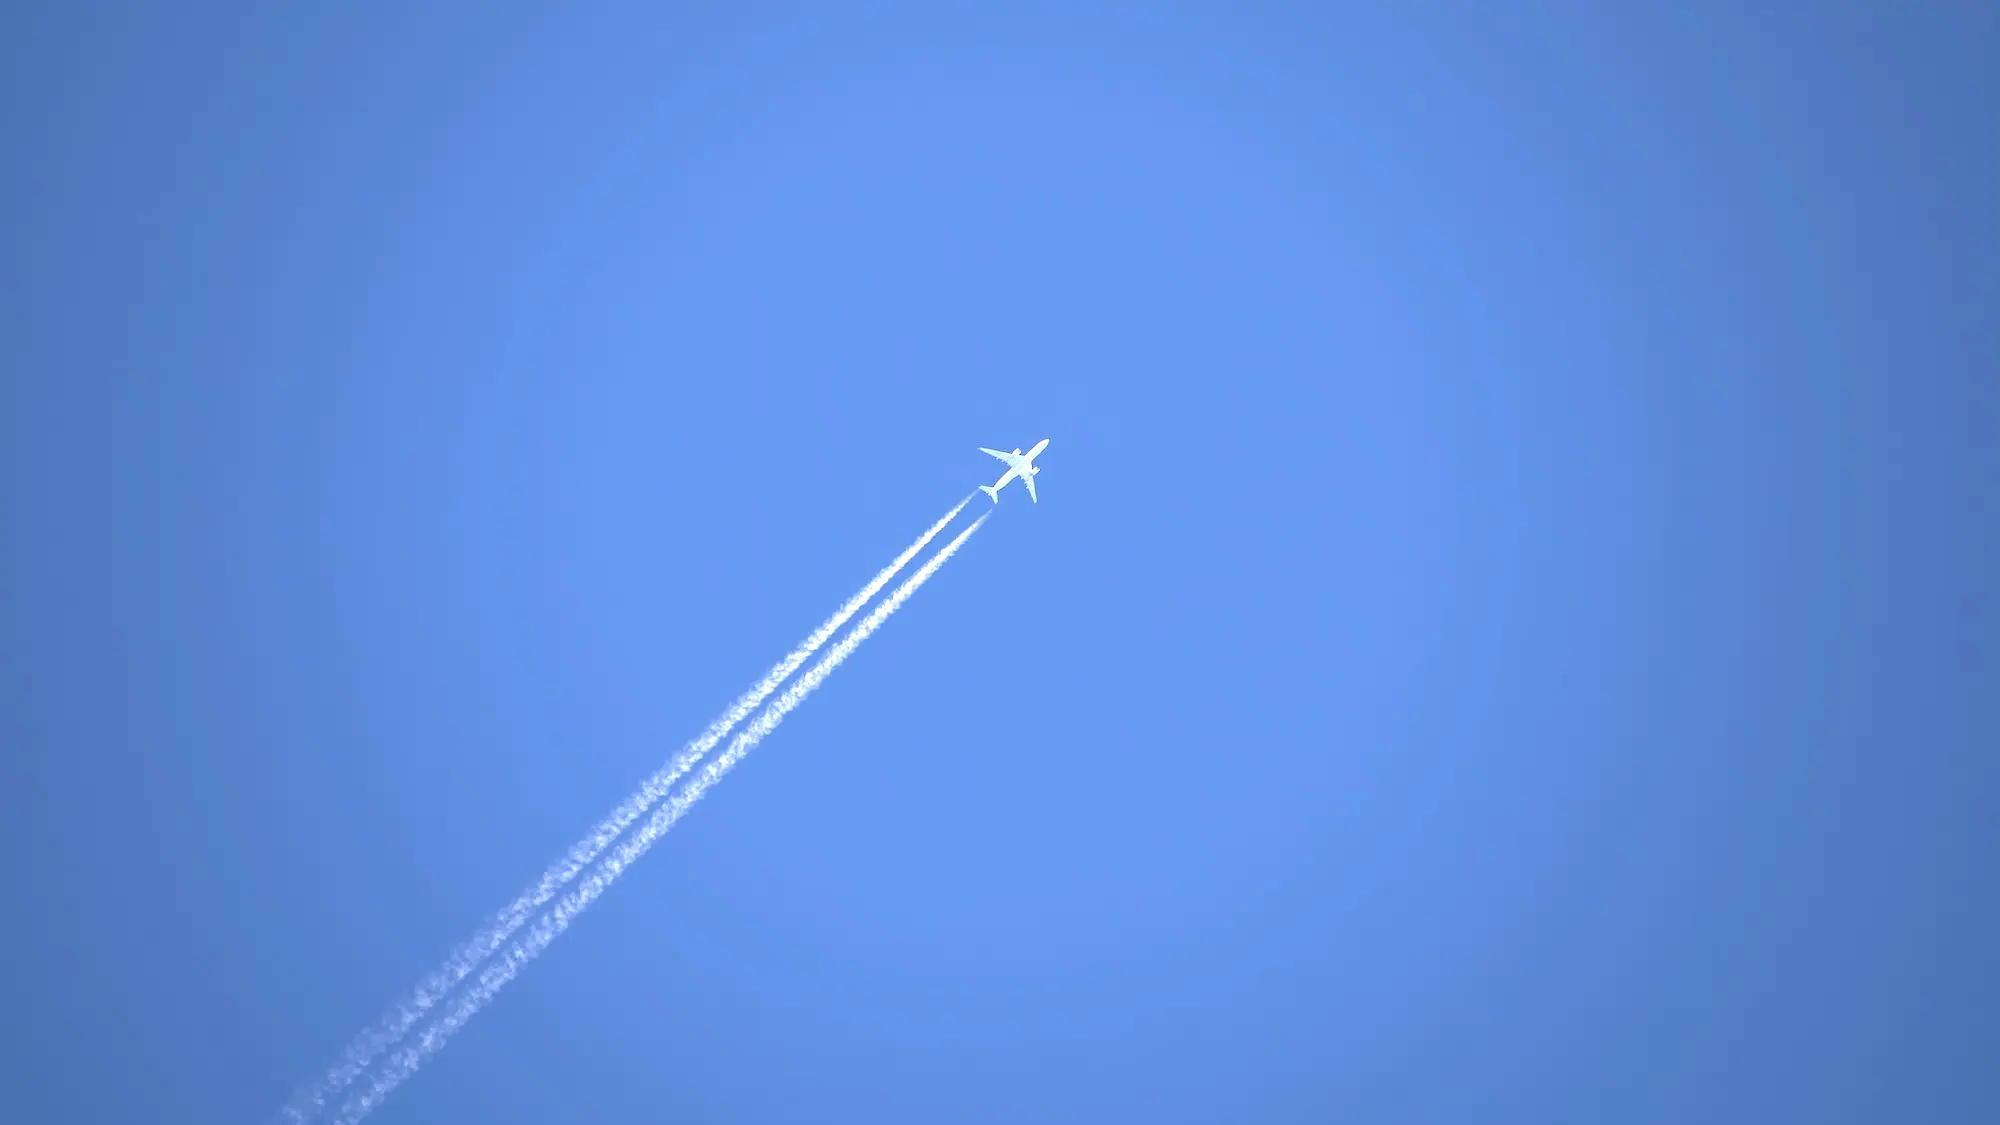Plane: (587, 411, 1128, 938)
